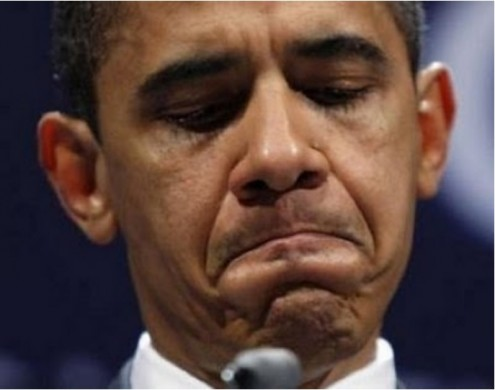sad: (115, 7, 424, 342)
